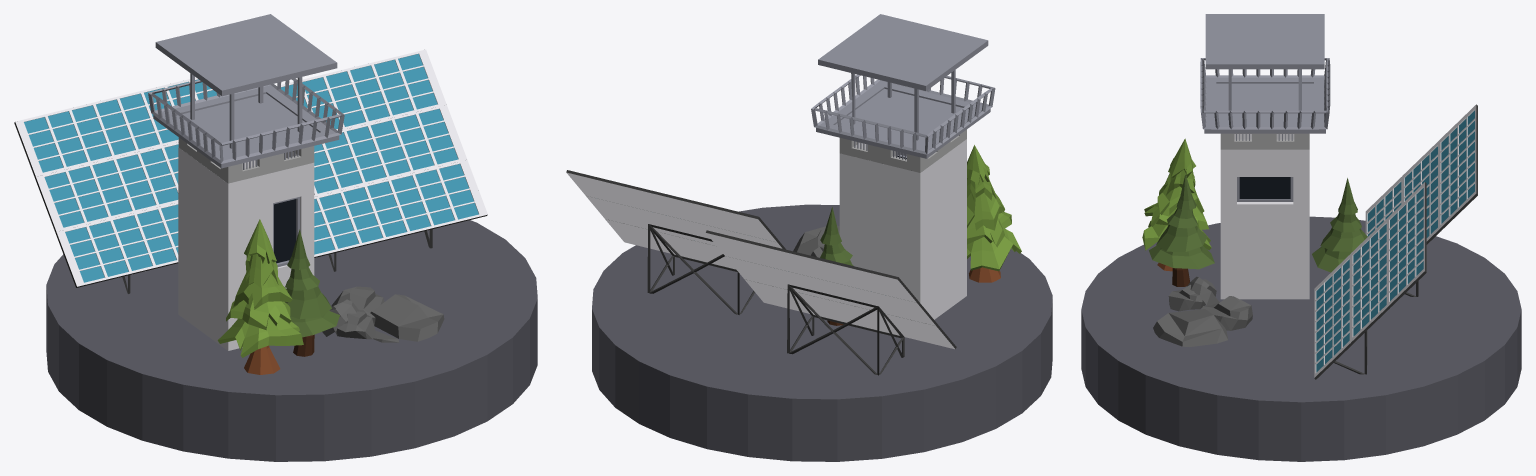
Rendered from solar.glb.
3 renders of one model, left to right at view 1: azimuth 30°, elevation 25°; view 2: azimuth 150°, elevation 25°; view 3: azimuth 270°, elevation 25°, orthographic. The views are drawn at different scales.
Visible parts, largest first — view 1: Cylinder, Cube.031, Cube.019, Cube.020, Tree.005, Tree.006, Stone.002, Stone.006, Stone.001; view 2: Cylinder, Cube.031, Cube.020, Cube.019, Tree.005, Tree.003, Stone.002; view 3: Cylinder, Cube.031, Cube.019, Cube.020, Tree.006, Tree.005, Tree.003, Stone.002, Stone.006, Stone.001, Stone.007.
Part boxes in pixels (left/top/right/bottom): Cylinder: left=46, top=220, right=537, bottom=461; Cube.031: left=148, top=14, right=344, bottom=350; Cube.019: left=281, top=49, right=487, bottom=271; Cube.020: left=14, top=77, right=216, bottom=293; Tree.005: left=217, top=219, right=303, bottom=374; Tree.006: left=285, top=229, right=339, bottom=356; Stone.002: left=370, top=294, right=444, bottom=342; Stone.006: left=331, top=286, right=384, bottom=325; Stone.001: left=335, top=309, right=375, bottom=339; Cylinder: left=592, top=204, right=1052, bottom=461; Cube.031: left=811, top=14, right=995, bottom=319; Cube.020: left=706, top=230, right=956, bottom=375; Cube.019: left=566, top=170, right=785, bottom=314; Tree.005: left=967, top=145, right=1021, bottom=282; Tree.003: left=820, top=207, right=853, bottom=325; Stone.002: left=793, top=225, right=839, bottom=255; Cylinder: left=1081, top=216, right=1521, bottom=461; Cube.031: left=1200, top=14, right=1330, bottom=299; Cube.019: left=1314, top=182, right=1426, bottom=379; Cube.020: left=1365, top=104, right=1477, bottom=296; Tree.006: left=1149, top=174, right=1214, bottom=286; Tree.005: left=1142, top=138, right=1211, bottom=271; Tree.003: left=1312, top=178, right=1367, bottom=272; Stone.002: left=1153, top=309, right=1227, bottom=346; Stone.006: left=1201, top=296, right=1252, bottom=330; Stone.001: left=1168, top=284, right=1205, bottom=311; Stone.007: left=1187, top=276, right=1219, bottom=305.
Bounding box in the file's own units: 3.33 × 2.51 × 3.33.
